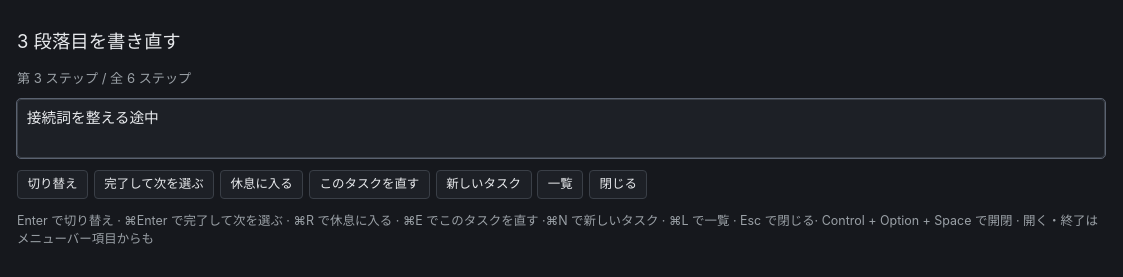
Test: 切り替え直後の表示に、離脱したステップの内容は現れない (FR-2)
Replace the text in the text box with class "note" with "接続詞を整える途中 / 次は結論" at (561, 129), box [17, 99, 1105, 158]
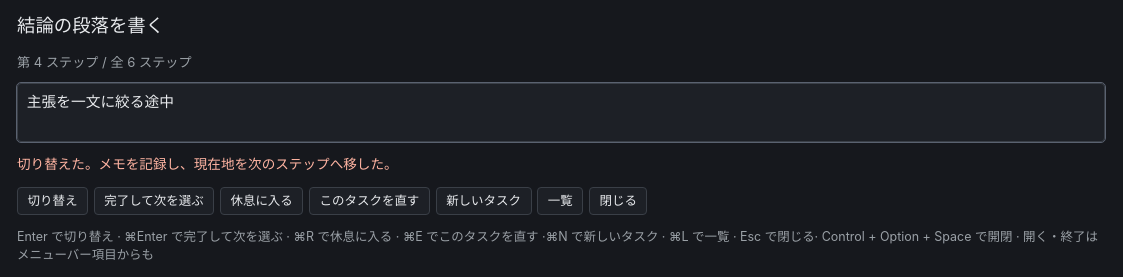
Check: the text "3 段落目を書き直す" is gone
Check: the text "第 3 ステップ" is gone
Check: the text box with class "note" holds "主張を一文に絞る途中", box [17, 83, 1105, 142]
